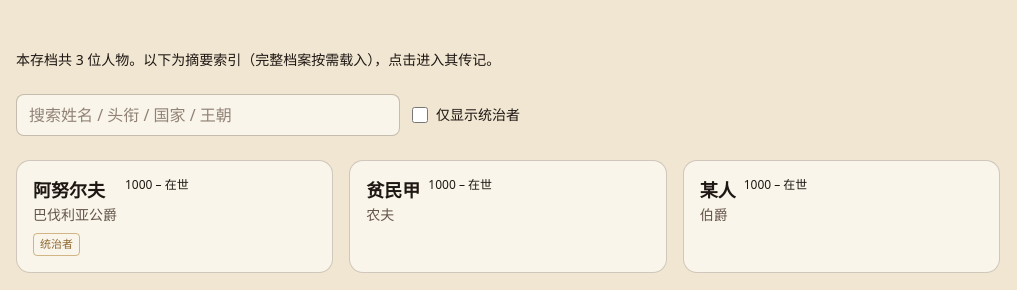
Test case: SelectPage（搜索 / 筛选 / 导航） › 按姓名搜索过滤
# 用仅出现在 name 中的串，避免与王朝/头衔子串误匹配
In the field with placeholder "搜索姓名 / 头衔 / 国家 / 王朝": (208, 115) [16,94,400,136], type "贫民甲"
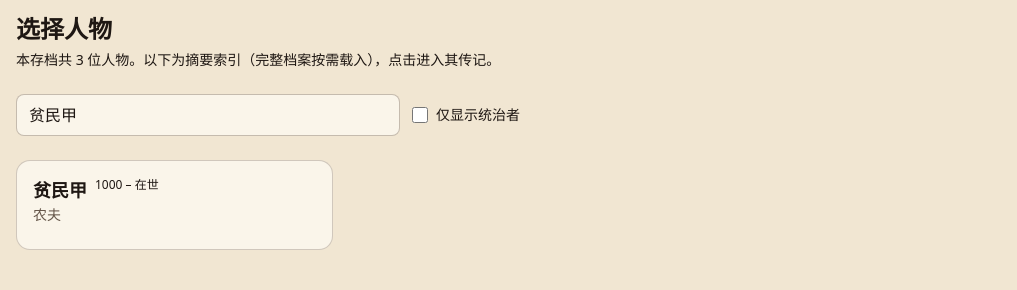
Expected: the heading "贫民甲" is shown, [33,177,87,205]
Expected: the button "阿努尔夫" is gone
Expected: the button "某人" is gone
